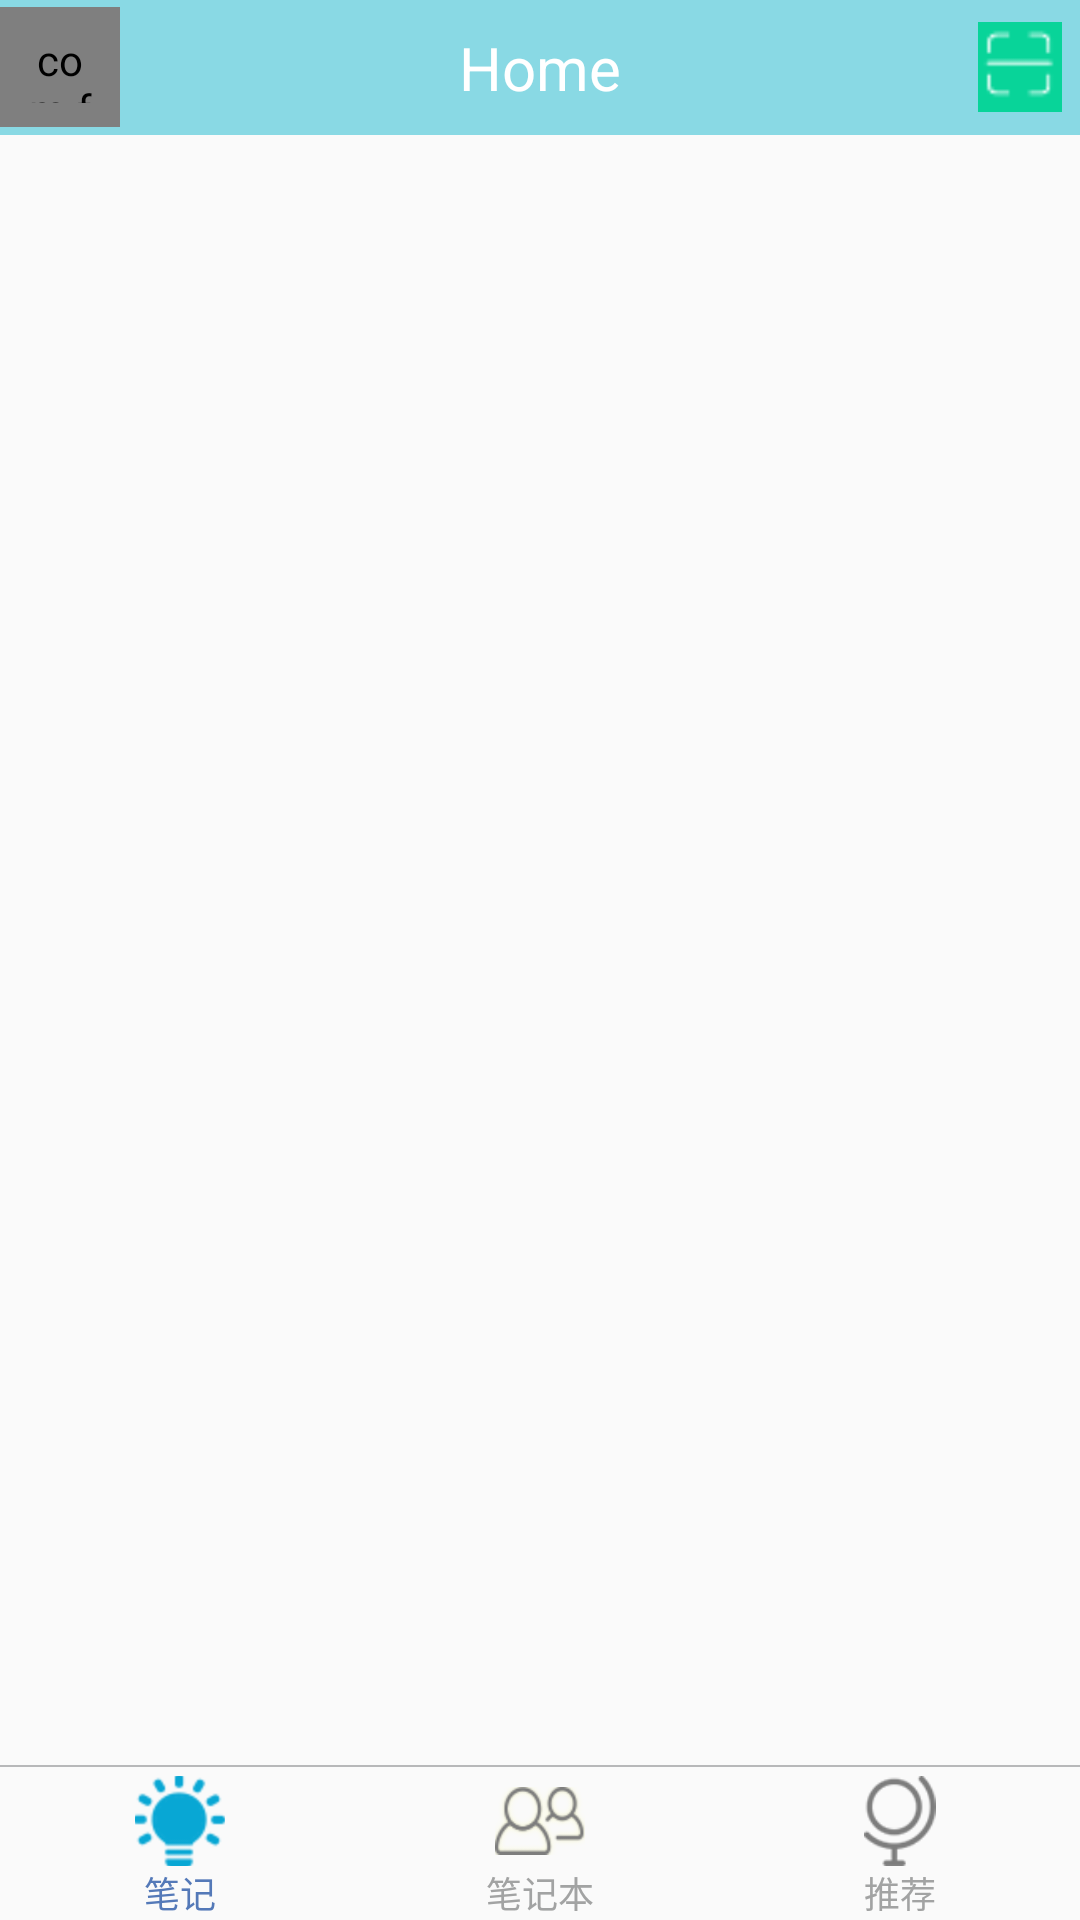

Point at icon controls on the screen. Image size 1080x1920, points as point (x, y).
club: point (540, 1821)
discover: point (900, 1821)
scan: point (1020, 67)
